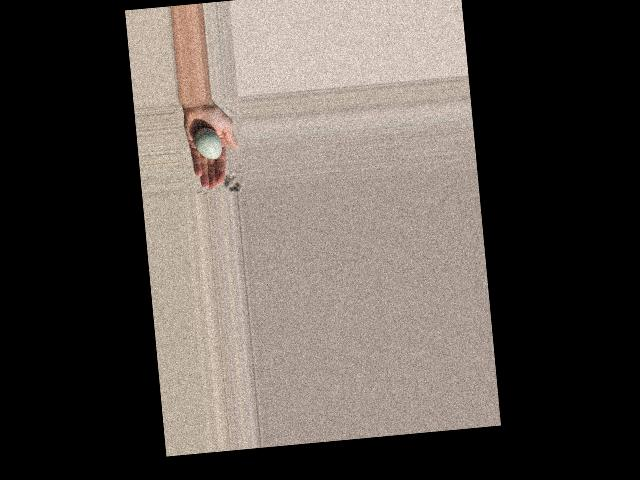egg: (193, 127, 222, 161)
